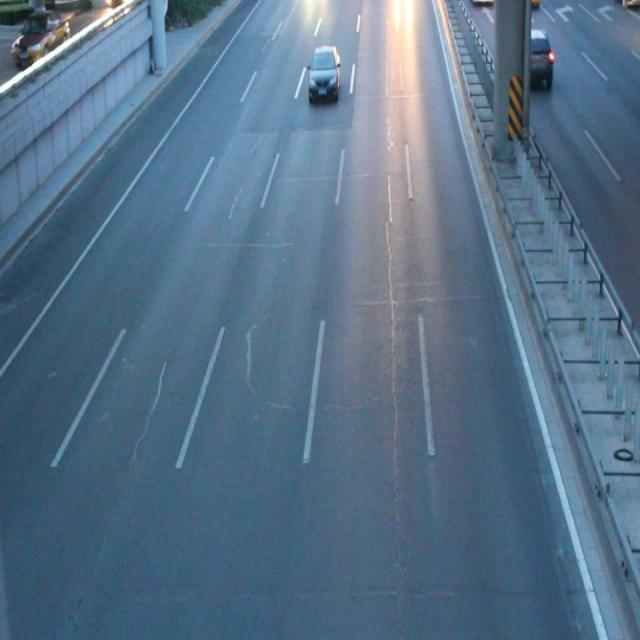car: (515, 28, 551, 86), (308, 46, 338, 100)
